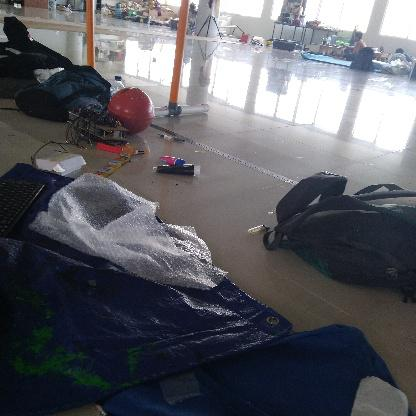red_buoy: (108, 85, 156, 138)
